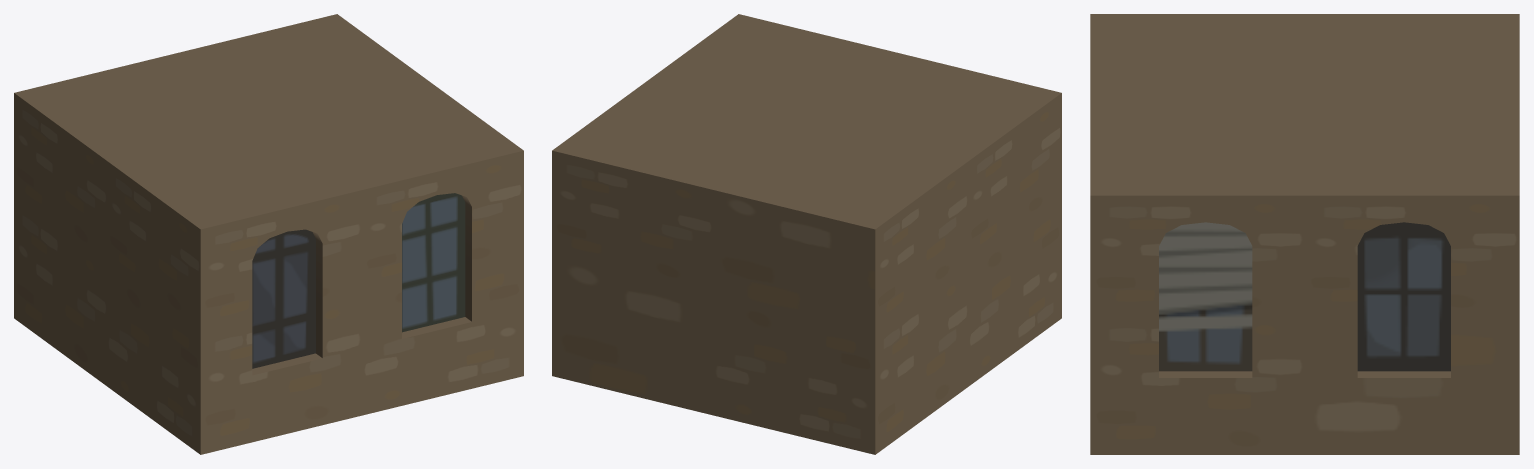
Rendered from Bock_D4.fbx.
3 renders of one model, left to right at view 1: azimuth 30°, elevation 25°; view 2: azimuth 150°, elevation 25°; view 3: azimuth 270°, elevation 25°, orthographic. The views are drawn at different scales.
Parts seen in each view (by area): view 1: Bock_D4; view 2: Bock_D4; view 3: Bock_D4.
Boxes of the visible parts, x1,y1,x2,y2 form: Bock_D4: (14,14,523,454); Bock_D4: (552,14,1061,454); Bock_D4: (1090,14,1519,454).
Bounding box in the file's own units: 600 × 400 × 600.
